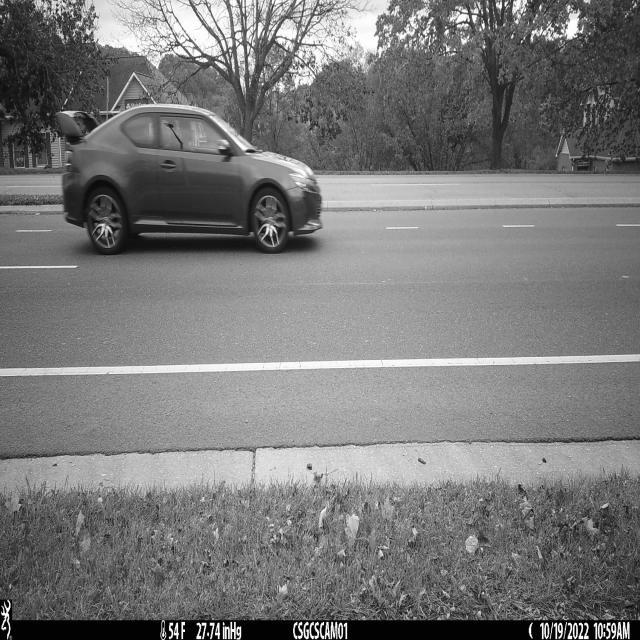Sedan: (56, 103, 324, 255)
